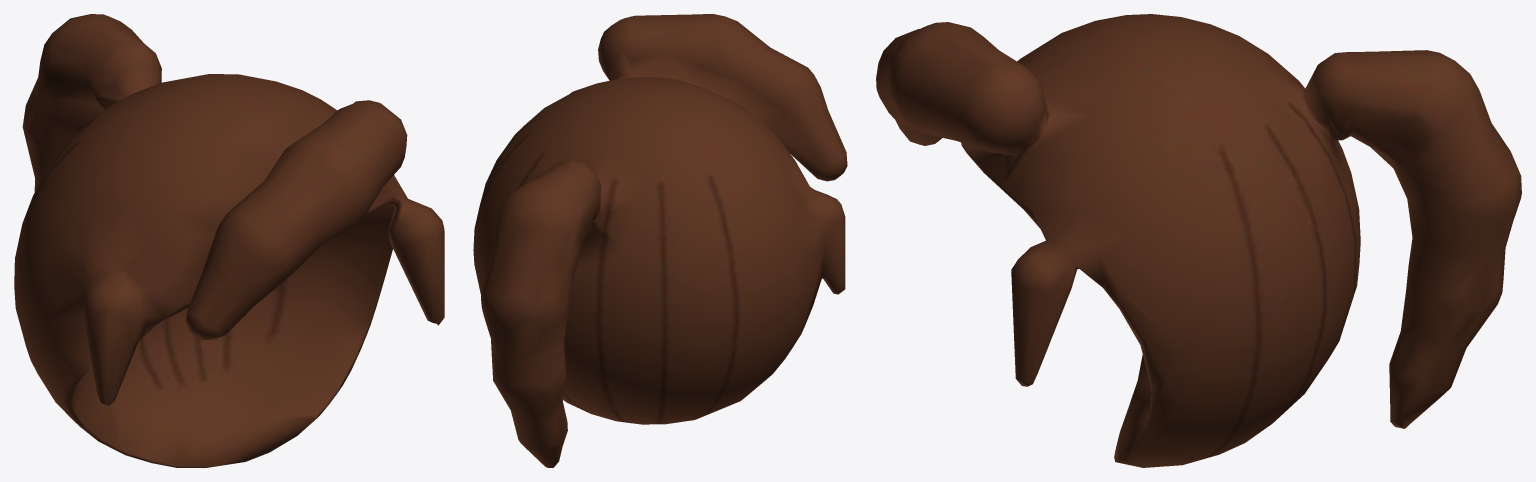
The model's file is avatar-hair-ponytail.glb.
The picture shows the model from 3 angles, left to right: view 1: azimuth 30°, elevation 25°; view 2: azimuth 150°, elevation 25°; view 3: azimuth 270°, elevation 25°; orthographic projection. The views are drawn at different scales.
Visible parts, largest first — view 1: hair; view 2: hair; view 3: hair.
Part boxes in pixels (left/top/right/bottom): hair: left=14, top=14, right=444, bottom=467; hair: left=473, top=14, right=847, bottom=467; hair: left=876, top=14, right=1521, bottom=467.
Bounding box in the file's own units: 0.4327 × 0.4449 × 0.6098.
Materials: 1 (1 with a texture image).
